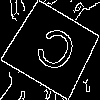C: (26, 24, 81, 83)
